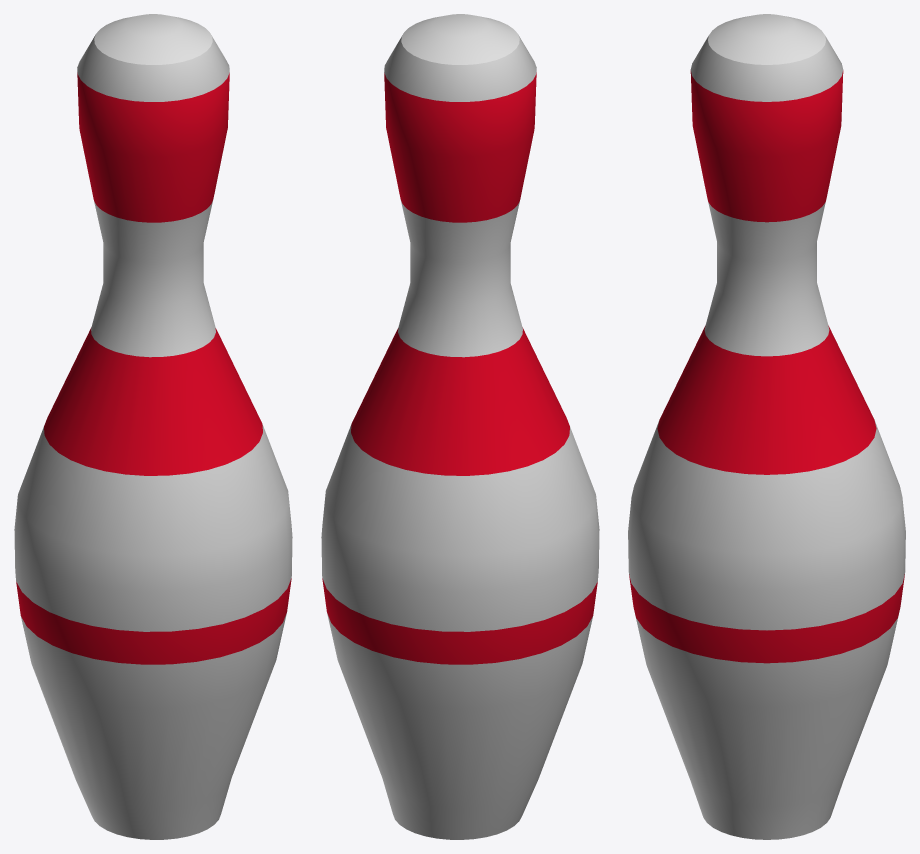
Rendered from pin.fbx.
3 renders of one model, left to right at view 1: azimuth 30°, elevation 25°; view 2: azimuth 150°, elevation 25°; view 3: azimuth 270°, elevation 25°, orthographic.
Parts seen in each view (by area): view 1: Cylinder; view 2: Cylinder; view 3: Cylinder.
Boxes of the visible parts, <box> form: Cylinder: <box>14,14,292,839</box>; Cylinder: <box>321,14,599,839</box>; Cylinder: <box>628,14,905,839</box>.
Bounding box in the file's own units: 139 × 434 × 139.
